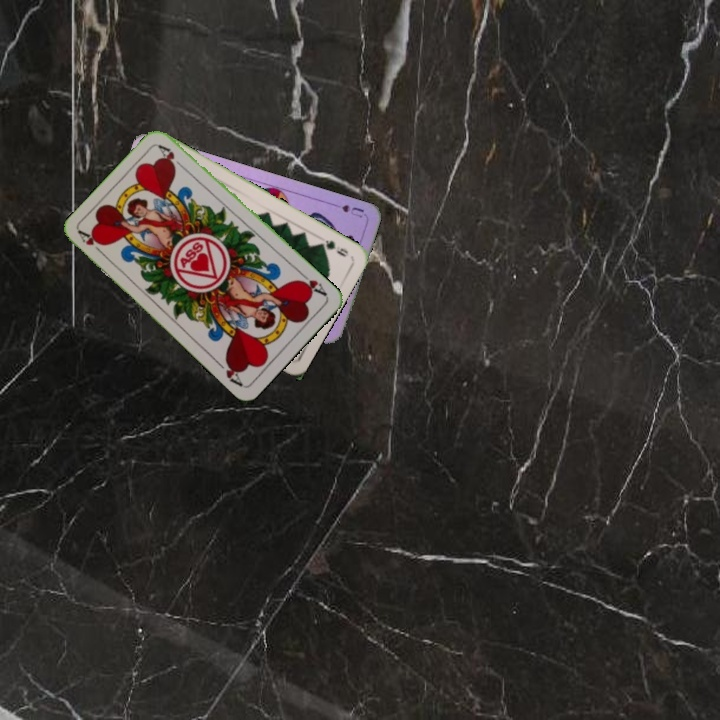G9: (314, 236, 351, 260)
HA: (293, 268, 330, 299), (75, 227, 108, 259)
SU: (326, 199, 367, 220)
